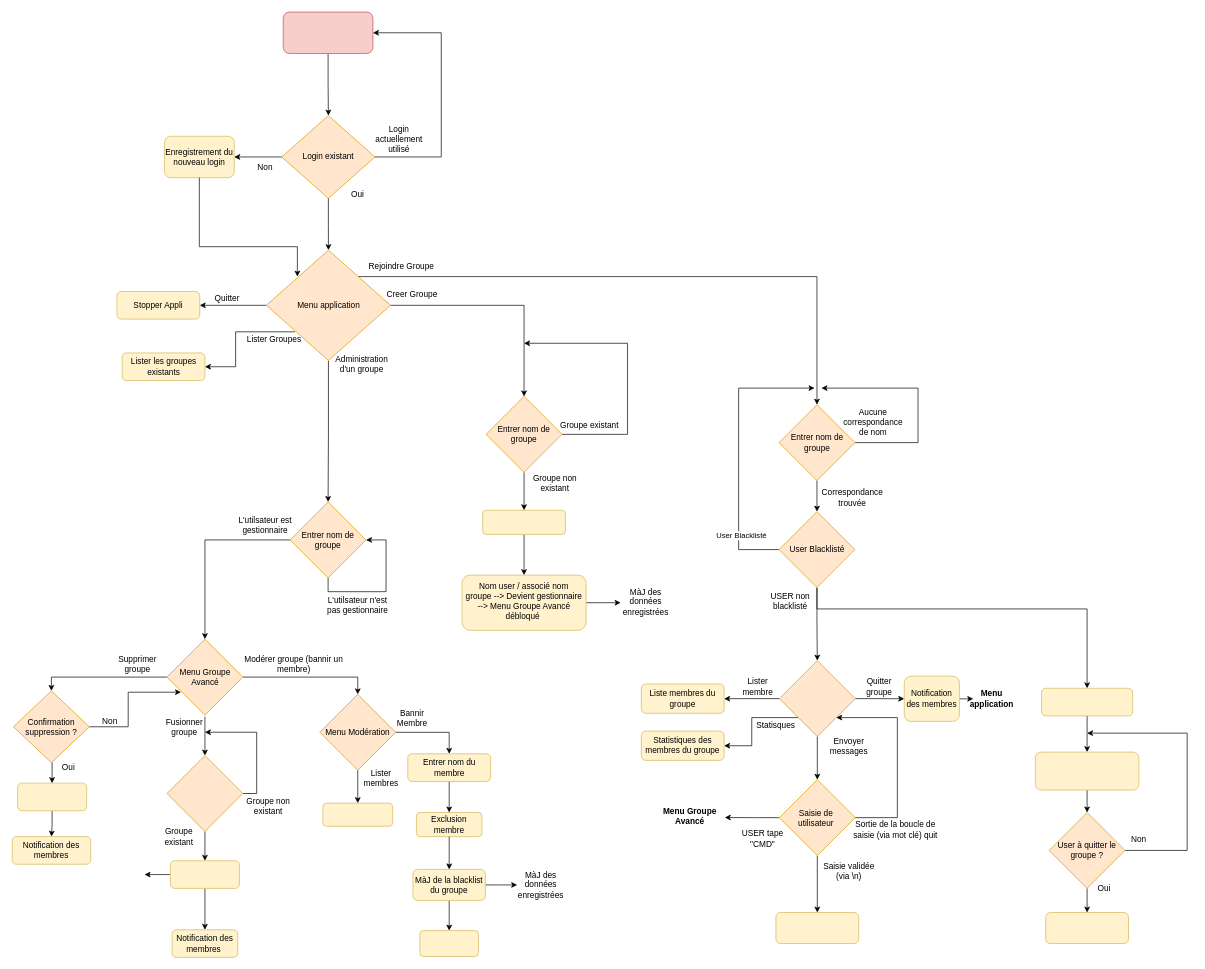
Image size: 1205x969. Some labels were removed from this diagram. The shapes that lost their labels are listed below. From the top down, each one's centre as x and y in pixels, then its label:
At point 328,32: "Utilisateur entre son pseudo/nom".
At point 523,522: "Créer nouveau groupe".
At point 817,698: "Menu Groupe".
At point 1087,702: "Lancement affichage".
At point 1087,770: "Chargement/affichage des précédents messages".
At point 52,796: "Suppression du groupe".
At point 204,793: "Entrer le nom du deuxième groupe".
At point 357,814: "Lister membres du groupe".
At point 204,874: "Fusion des deux groupes".
At point 449,943: "Notification du membre".
At point 817,928: "Envoyer message".
At point 1086,928: "Stopper affichage".
